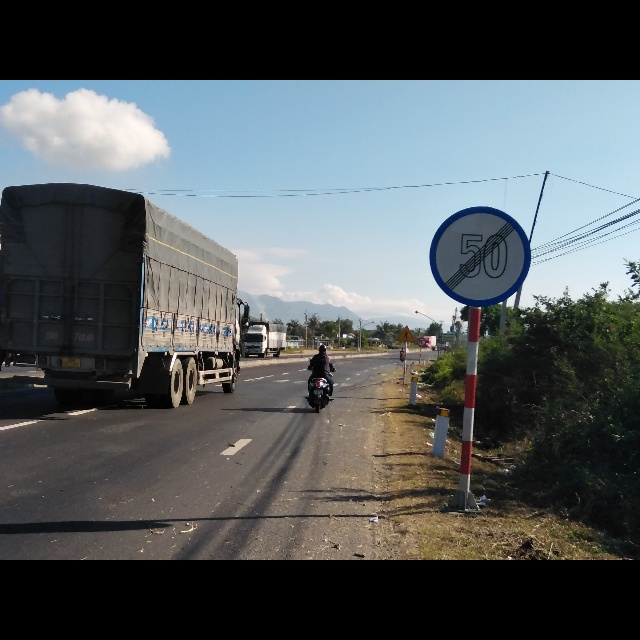Hết hạn chế tốc độ tối đa 50km/h: (429, 203, 532, 307)
